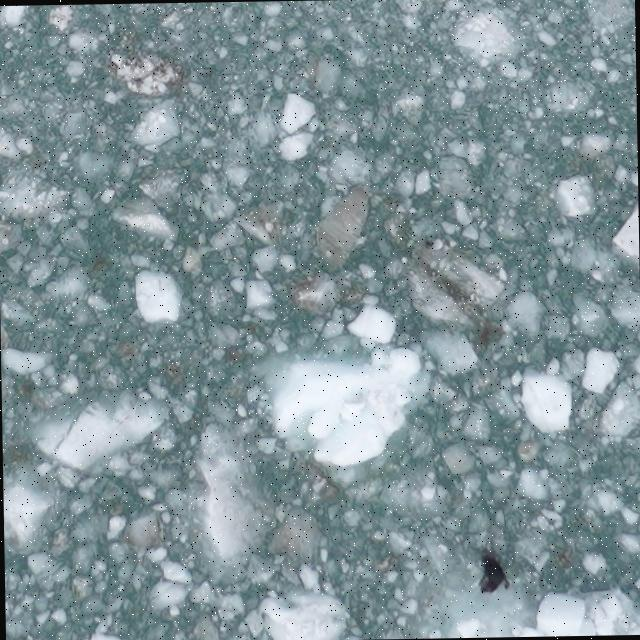seal: (472, 550, 512, 597)
